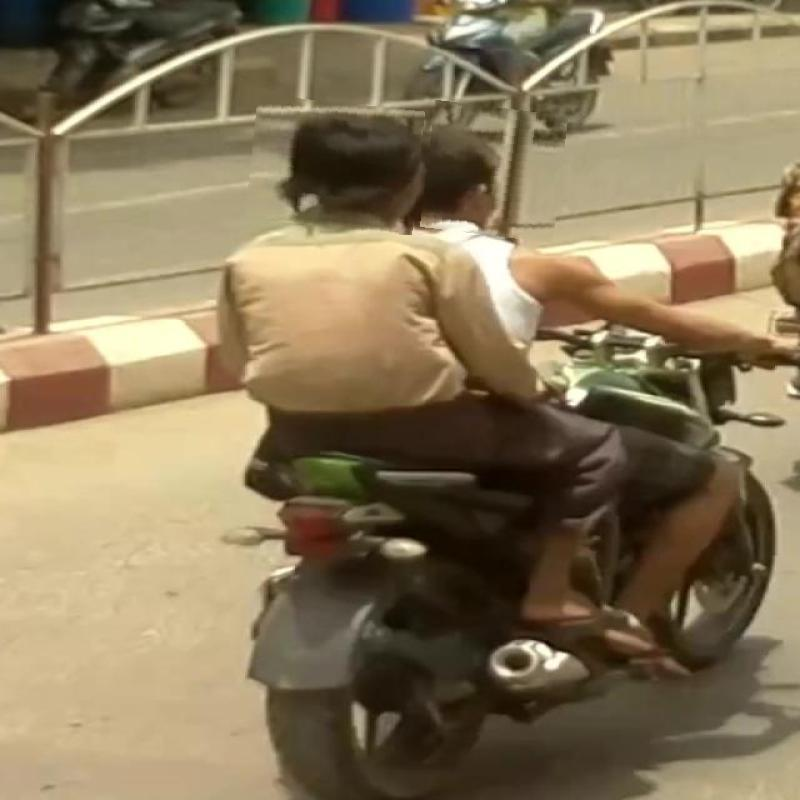nohelmet: (248, 98, 422, 231), (424, 104, 565, 240)
